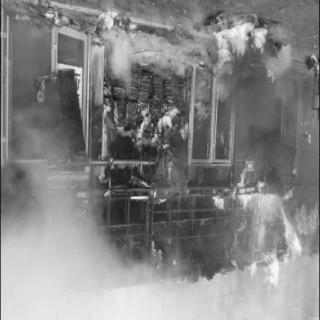Fire: (102, 73, 310, 309)
Smoke: (5, 204, 89, 318)
